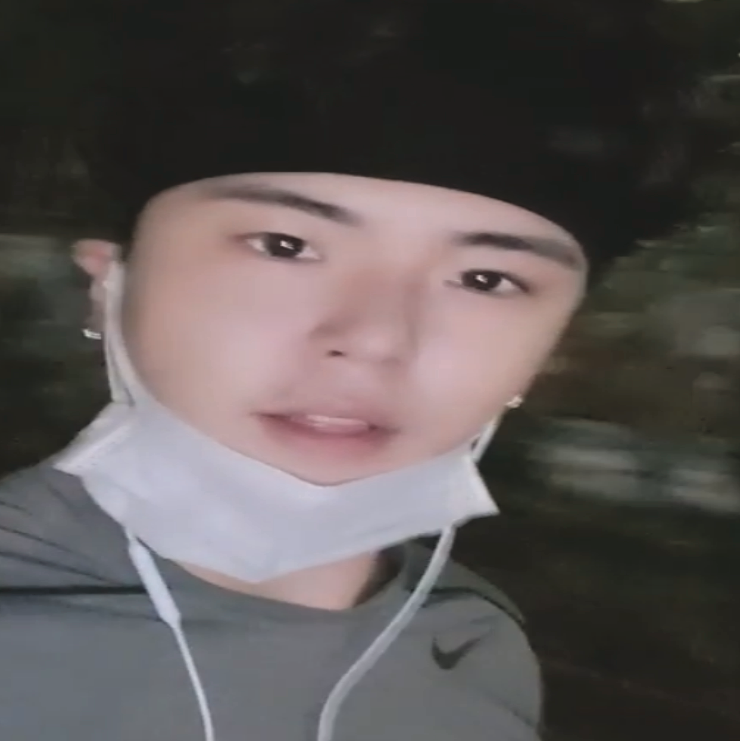mask_weared_incorrect: (65, 98, 593, 580)
